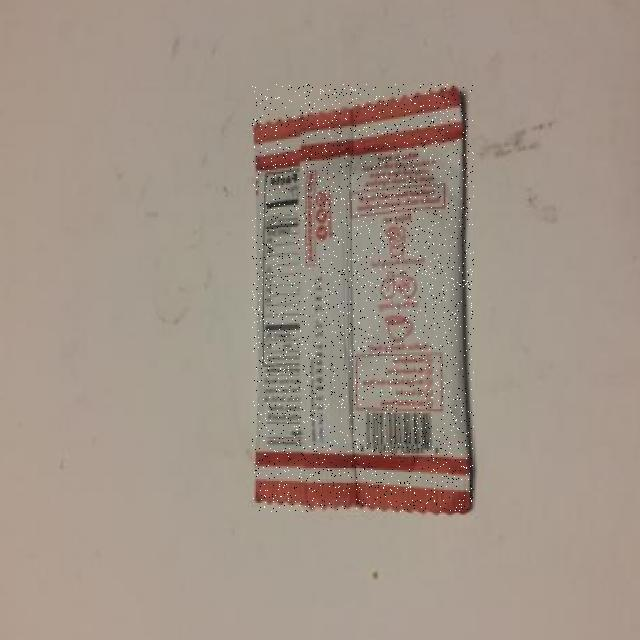wrapper: (253, 84, 474, 511)
